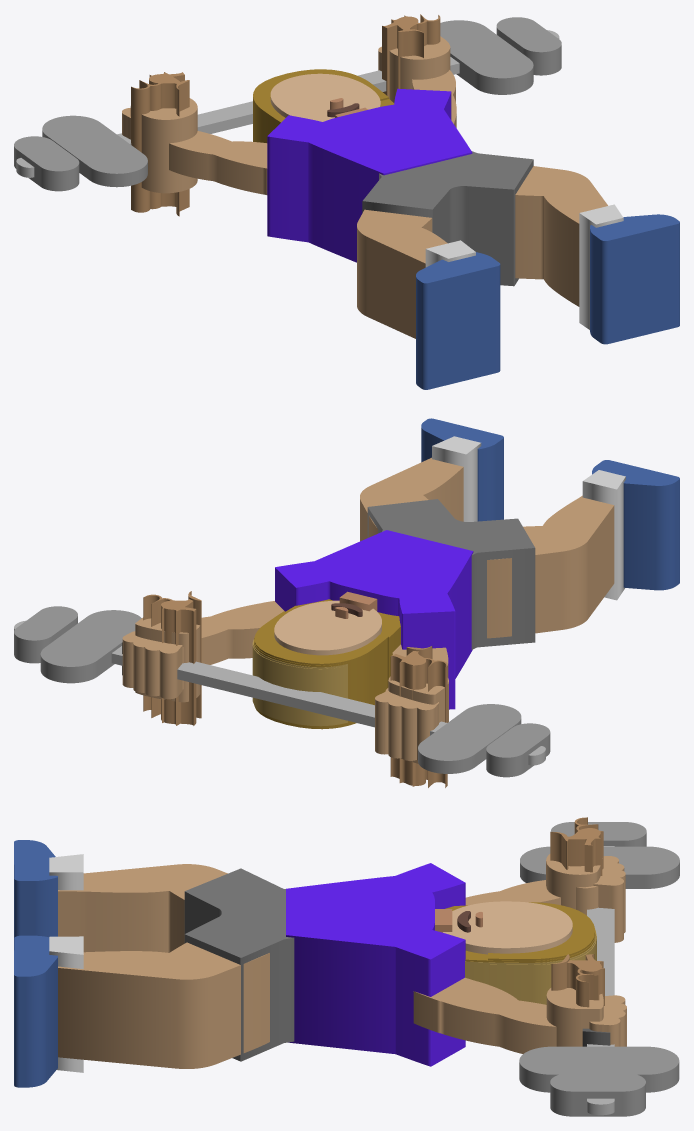
File: emoji_u1f3cb_1f3fc_200d_2640.glb
3 renders of one model, top to bottom at view 1: azimuth 30°, elevation 25°; view 2: azimuth 150°, elevation 25°; view 3: azimuth 270°, elevation 25°, orthographic. The views are drawn at different scales.
Parts seen in each view (by area): view 1: emoji_u1f3cb_1f3fc_200d_2640; view 2: emoji_u1f3cb_1f3fc_200d_2640; view 3: emoji_u1f3cb_1f3fc_200d_2640.
Boxes of the visible parts, left/top/right/bottom form: emoji_u1f3cb_1f3fc_200d_2640: left=14, top=14, right=679, bottom=389; emoji_u1f3cb_1f3fc_200d_2640: left=14, top=418, right=679, bottom=787; emoji_u1f3cb_1f3fc_200d_2640: left=14, top=817, right=679, bottom=1116.
Bounding box in the file's own units: 0.0338 × 0.0076 × 0.0338.
